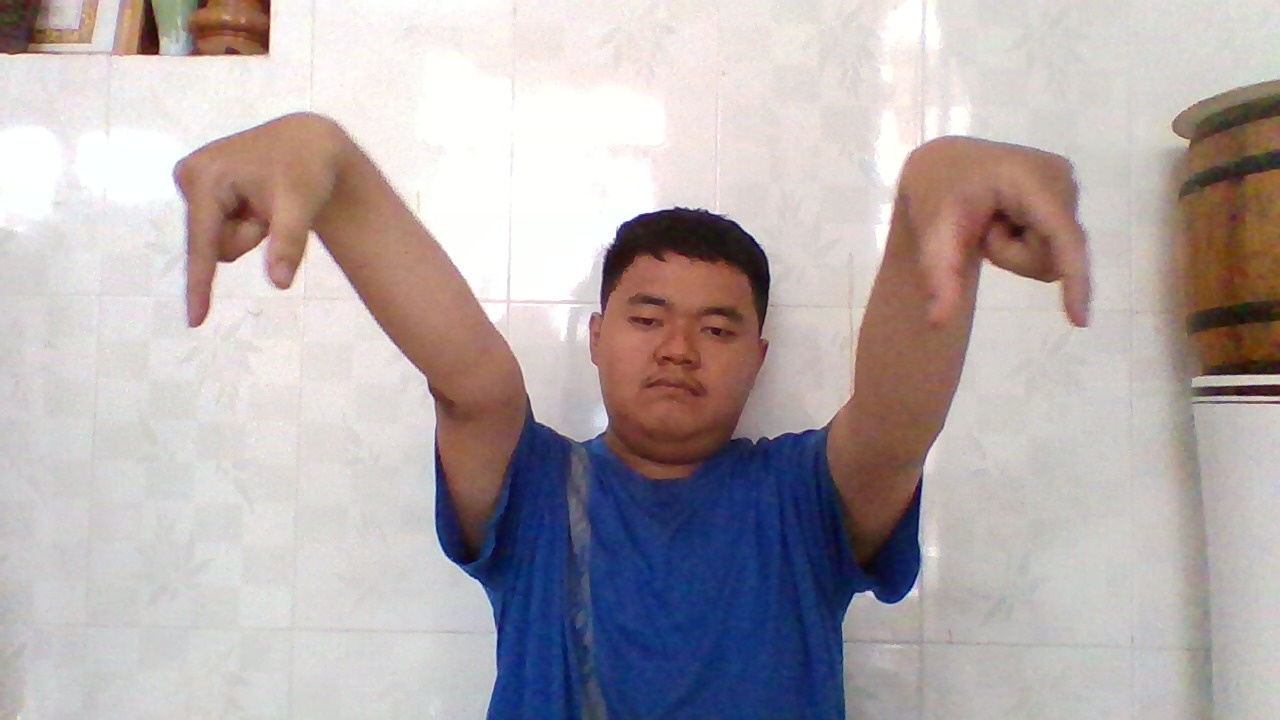Q: (912, 139, 1103, 335), (175, 121, 323, 331)
